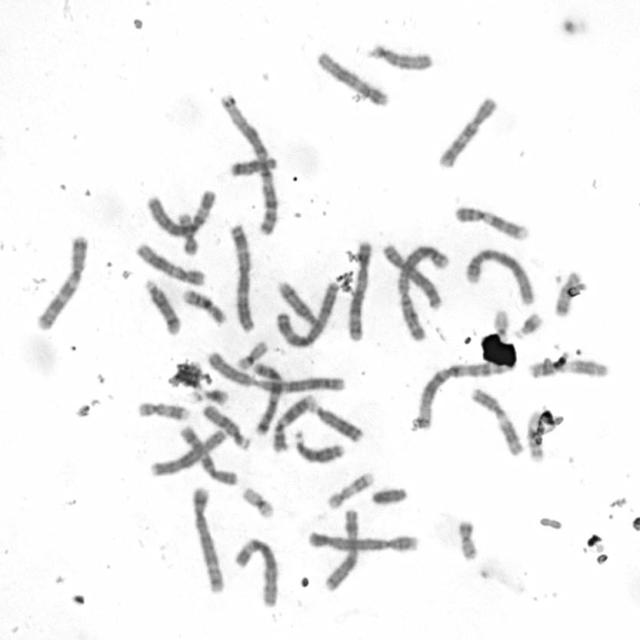A1: (218, 91, 282, 239), (416, 360, 516, 432)
A2: (208, 350, 344, 394), (396, 244, 448, 344)
A3: (275, 282, 340, 348), (228, 223, 257, 333)
B4: (465, 246, 537, 307), (307, 529, 421, 555)
B5: (192, 485, 226, 595), (348, 240, 373, 342)
C10: (437, 96, 499, 170), (179, 424, 239, 488)
C11: (469, 386, 525, 457), (529, 359, 610, 380)
C12: (316, 50, 390, 108), (135, 242, 207, 287)
C6: (146, 188, 216, 237), (233, 536, 279, 609)
C7: (36, 232, 90, 330), (249, 361, 284, 437)
C8: (381, 243, 444, 310), (149, 428, 226, 478)
C9: (455, 204, 530, 241), (271, 393, 316, 453)
D13: (308, 403, 364, 444), (294, 428, 345, 464)
D14: (144, 279, 180, 335), (276, 280, 317, 326)
D15: (202, 404, 253, 451), (370, 45, 435, 75)
E16: (180, 289, 228, 327), (526, 409, 546, 463)
E17: (327, 469, 377, 512), (135, 401, 191, 422)
E18: (553, 271, 582, 318), (230, 157, 278, 178)
F19: (239, 486, 276, 521), (234, 340, 268, 372)
F20: (175, 210, 200, 256), (458, 519, 478, 562)
G21: (513, 311, 544, 340), (189, 388, 230, 408)
G22: (164, 363, 196, 389), (492, 309, 510, 340)
X: (322, 508, 358, 594)
Y: (369, 487, 408, 506)
